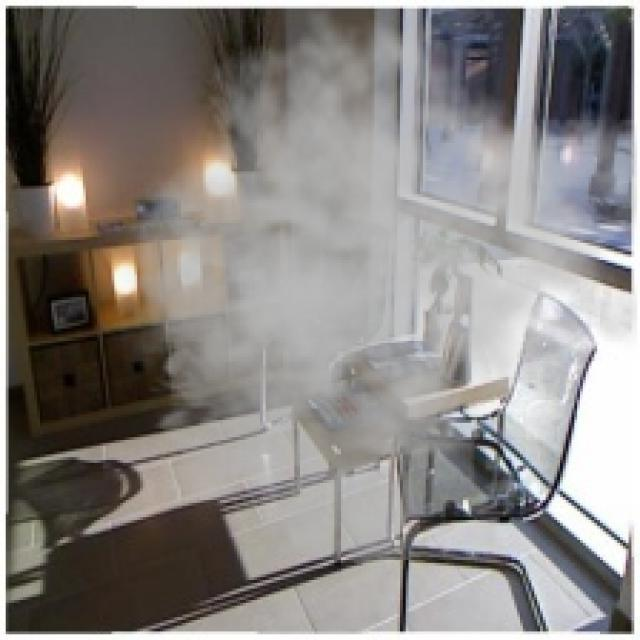Smoke: (82, 3, 638, 566)
